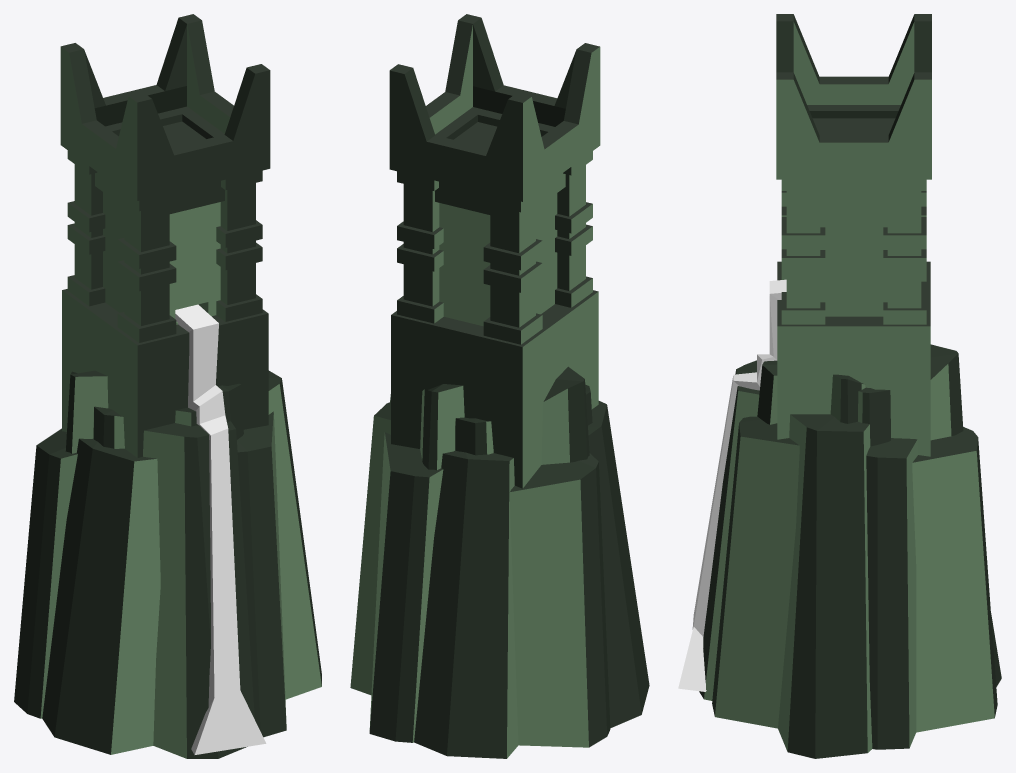
Rendered from SF_Bld_Undead_Castle_Wall_Tower_01.glb.
The picture shows the model from 3 angles, left to right: view 1: azimuth 30°, elevation 25°; view 2: azimuth 150°, elevation 25°; view 3: azimuth 270°, elevation 25°; orthographic projection.
Parts seen in each view (by area): view 1: SF_Bld_Undead_Castle_Wall_Tower_01; view 2: SF_Bld_Undead_Castle_Wall_Tower_01; view 3: SF_Bld_Undead_Castle_Wall_Tower_01.
Boxes of the visible parts, <box> form: SF_Bld_Undead_Castle_Wall_Tower_01: <box>14,14,321,758</box>; SF_Bld_Undead_Castle_Wall_Tower_01: <box>350,14,649,758</box>; SF_Bld_Undead_Castle_Wall_Tower_01: <box>678,14,1001,758</box>.
Bounding box in the file's own units: 0.1215 × 0.2771 × 0.1262.
2 materials, 1 textured.
